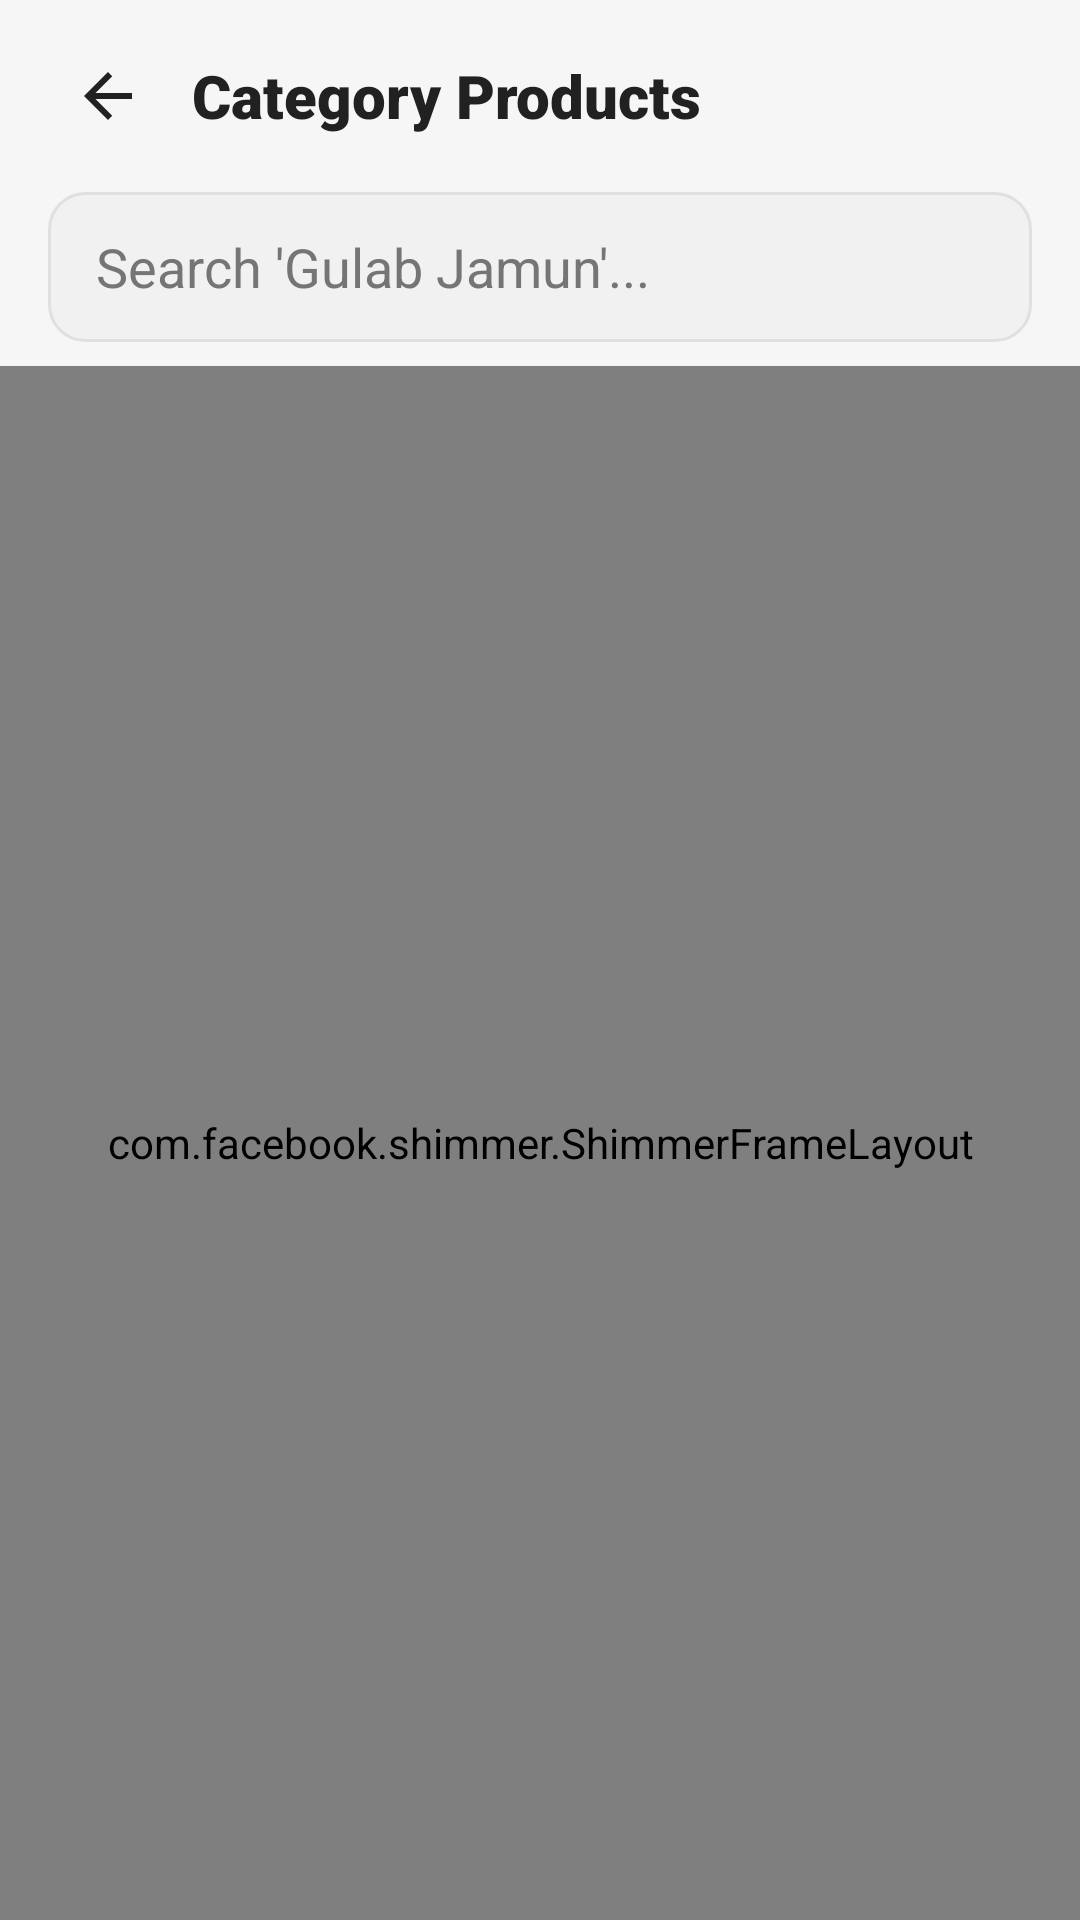

Screen size 1080px x 1920px. Icon name, then its box in pixels as [left=x1, top=y1, right=x2, bottom=y2]:
arrow left: [left=84, top=72, right=132, bottom=120]
